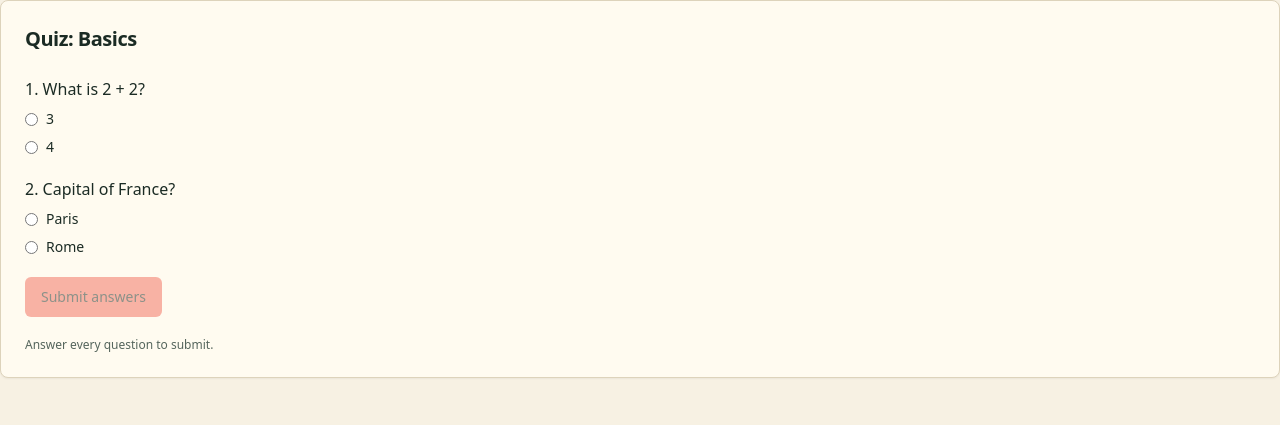
Scenario: QuizSection › shows a readable error when submitting fails
The width and height of the screenshot is (1280, 425).
Click the radio button labelled "3".
click(32, 119)  # box [25,112,38,126]
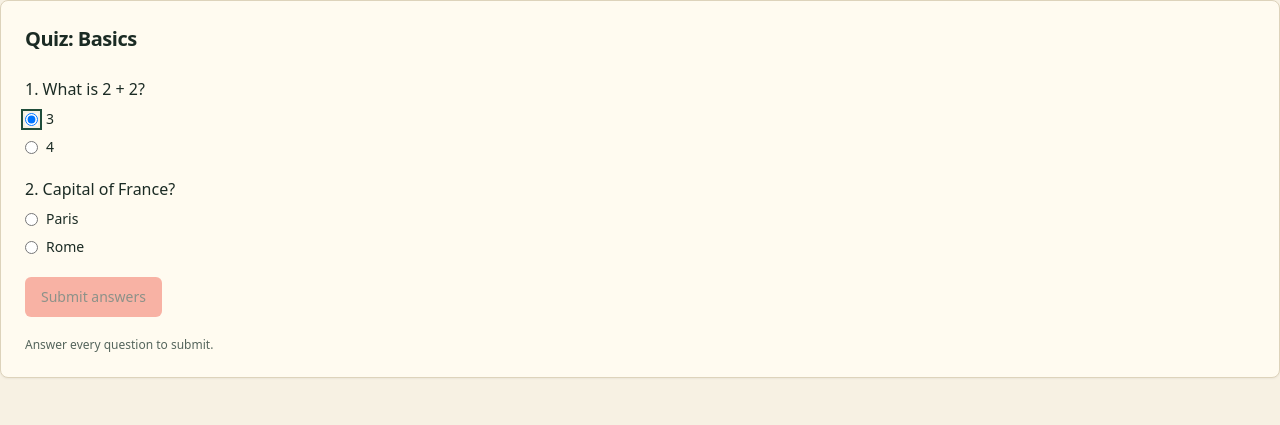
Click the radio button labelled "Paris".
click(32, 219)  # box [25,212,38,226]
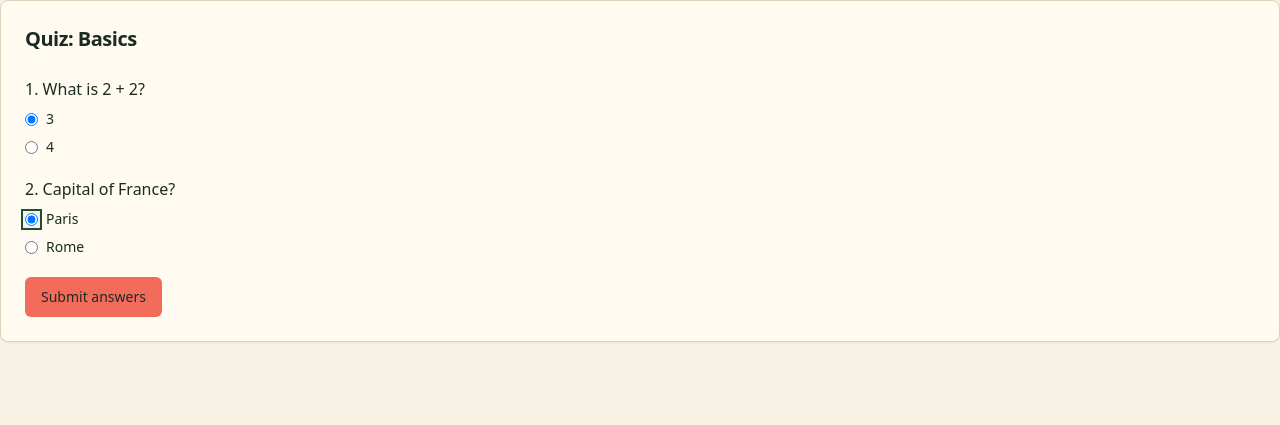
Click the button "Submit answers".
click(94, 297)  # box [25,277,162,317]
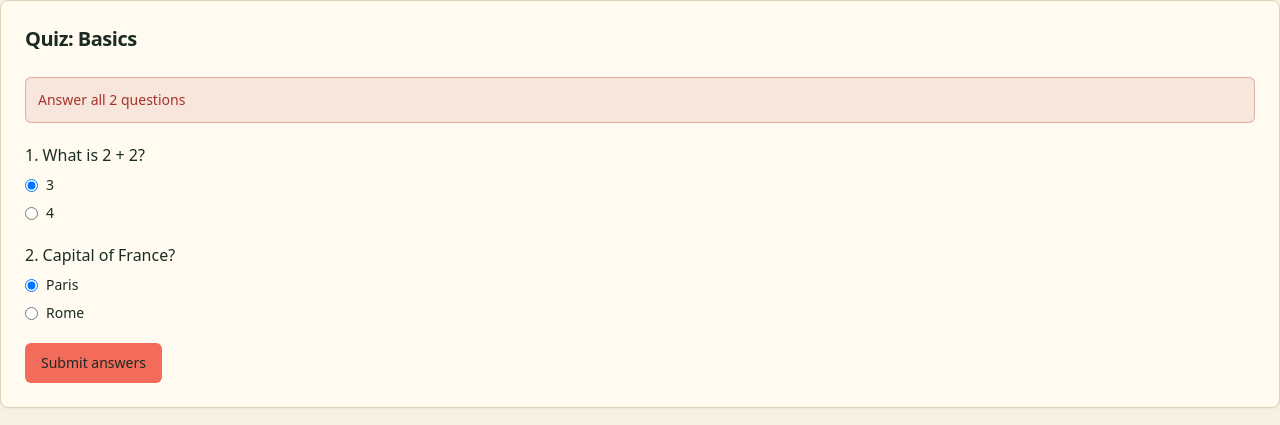
expect the message reads "Answer all 2 questions": met, box [38,90,185,109]
